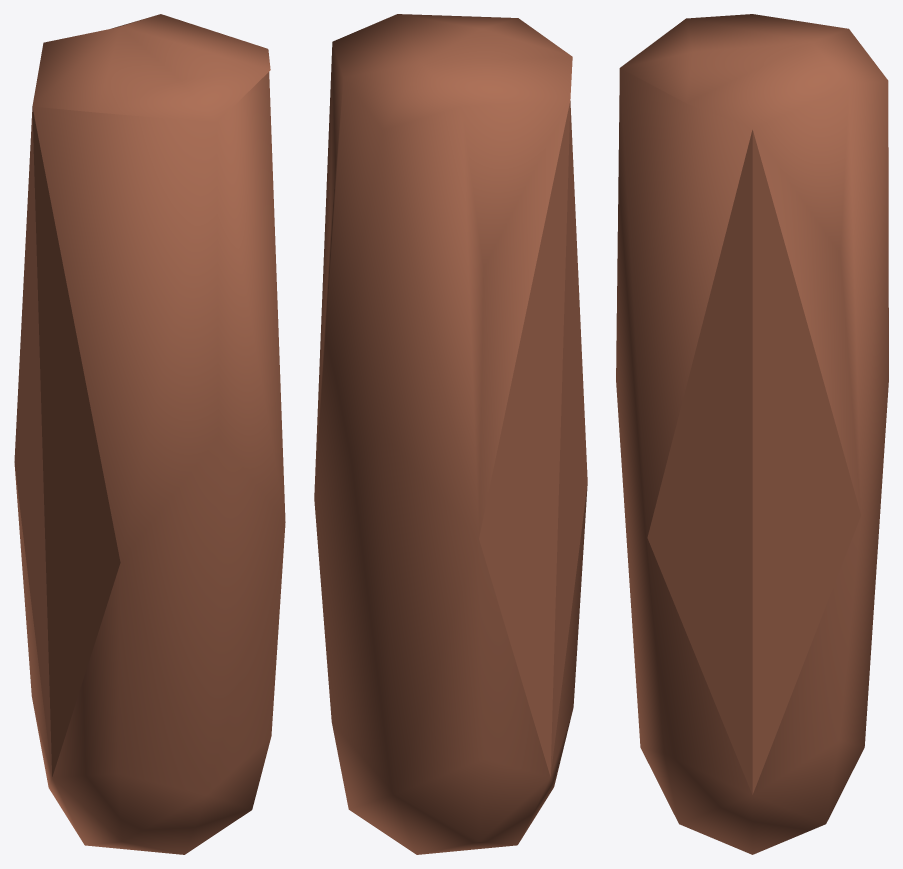
The model's file is left-right_upper_leg.dae.
3 renders of one model, left to right at view 1: azimuth 30°, elevation 25°; view 2: azimuth 150°, elevation 25°; view 3: azimuth 270°, elevation 25°, orthographic.
Parts seen in each view (by area): view 1: Plane; view 2: Plane; view 3: Plane.
Part boxes in pixels (box(x1,y1,x2,y2)): Plane: box(14, 14, 285, 854); Plane: box(314, 14, 587, 854); Plane: box(616, 14, 888, 854).
Size of the model in its own units: 0.3498 by 0.3506 by 1.13.
